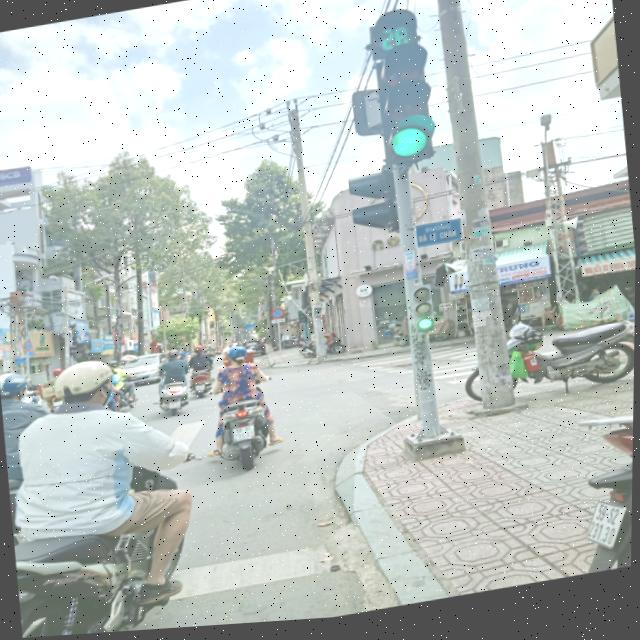Green: (371, 49, 447, 176), (402, 282, 444, 342)
